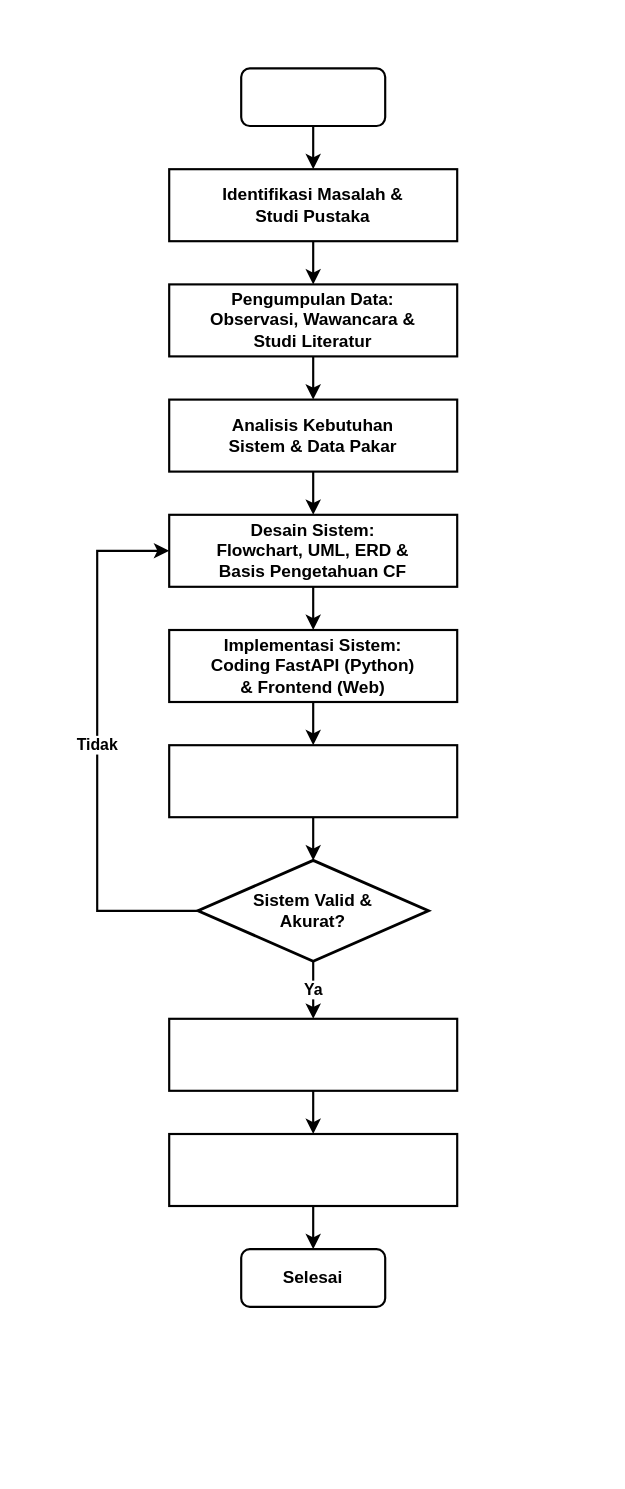
Some shapes in this 625 by 1489 pixel diagram are drawn without their labels. The box of each missing label's shape, as (x1, y1, x2, y2) in pixels:
Analisis Hasil & Pembahasan: (167, 1017, 458, 1091)
Mulai: (239, 67, 386, 126)
Pengujian Sistem: Black Box Testing & Evaluasi Akurasi: (167, 743, 458, 818)
Penyusunan Laporan, Kesimpulan & Saran: (167, 1132, 458, 1206)
